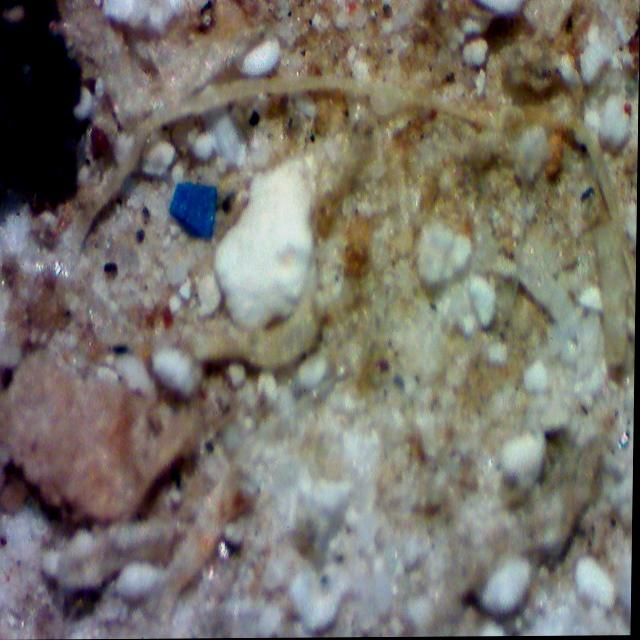microplastic: (168, 181, 216, 239)
